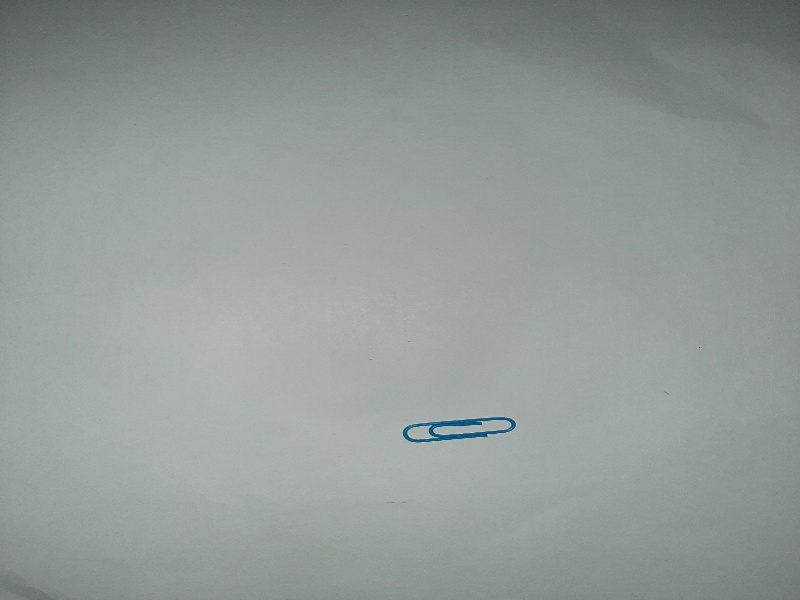Small Jumpclip: (400, 413, 521, 445)
